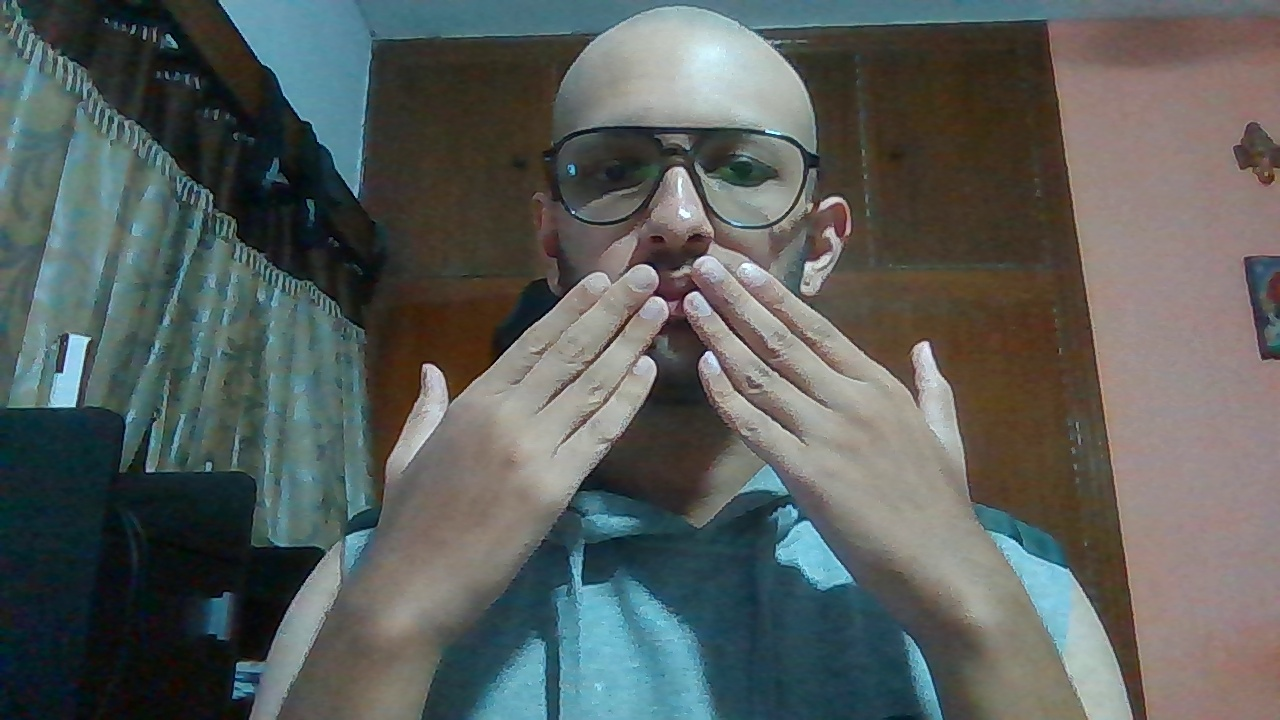Thank You: (377, 254, 1014, 563)
